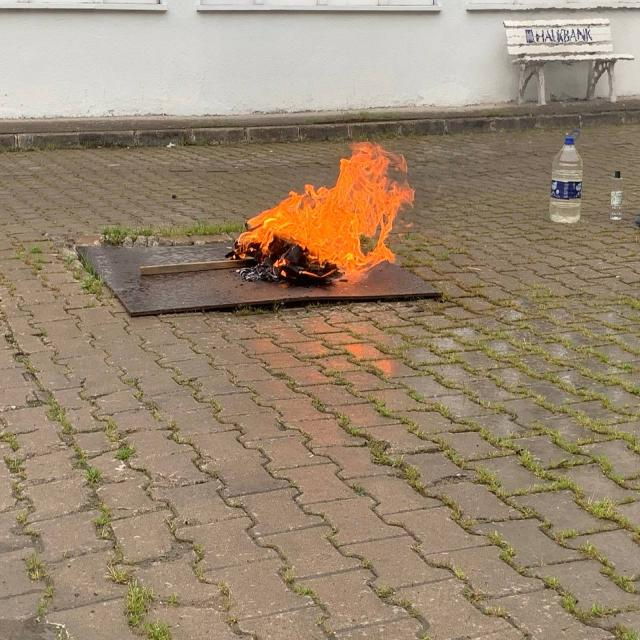fire: (230, 153, 418, 272)
